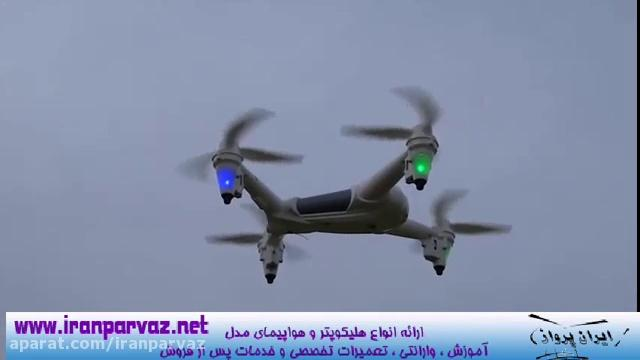drone: (168, 83, 516, 290)
